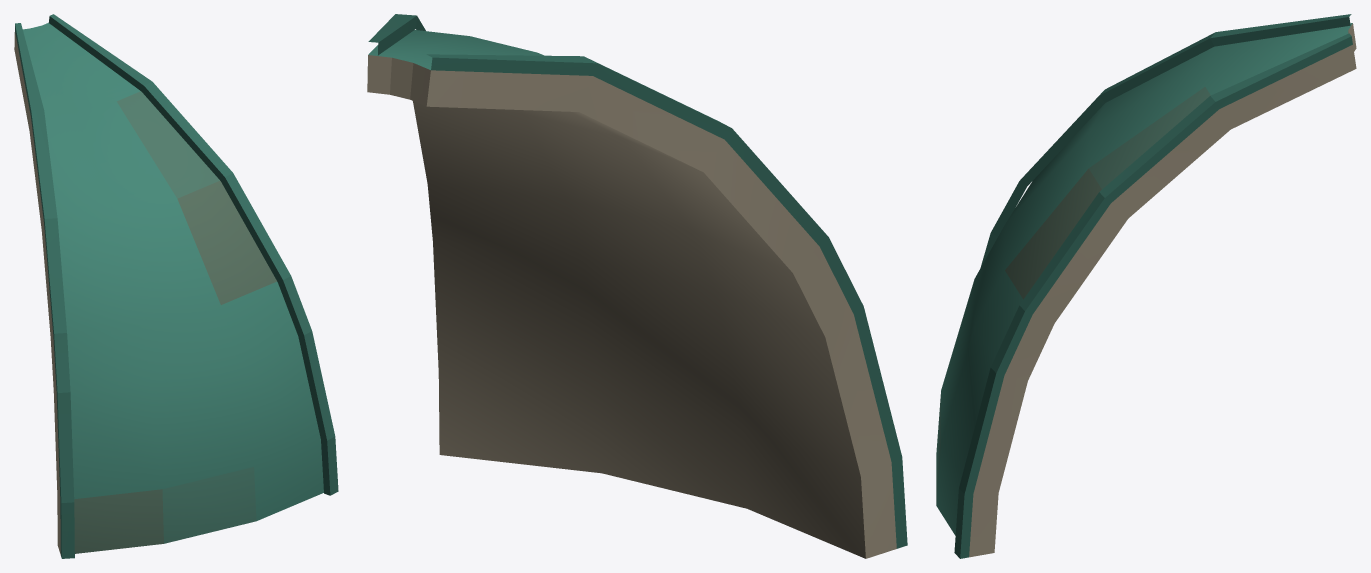
The model's file is dome.panel_8.copper.glb.
3 renders of one model, left to right at view 1: azimuth 30°, elevation 25°; view 2: azimuth 150°, elevation 25°; view 3: azimuth 270°, elevation 25°, orthographic. The views are drawn at different scales.
Visible parts, largest first — view 1: dome_panel_8_copper; view 2: dome_panel_8_copper; view 3: dome_panel_8_copper.
Part boxes in pixels (left/top/right/bottom): dome_panel_8_copper: left=14, top=14, right=338, bottom=558; dome_panel_8_copper: left=367, top=14, right=907, bottom=558; dome_panel_8_copper: left=936, top=14, right=1356, bottom=558.
Size of what is drawn, in the model's own units: 2.73 by 3.63 by 3.05.
